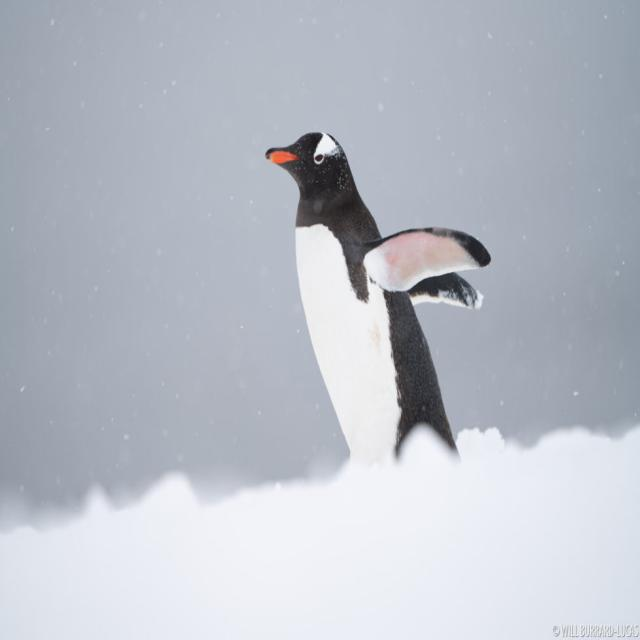Penguins: (255, 98, 480, 507)
